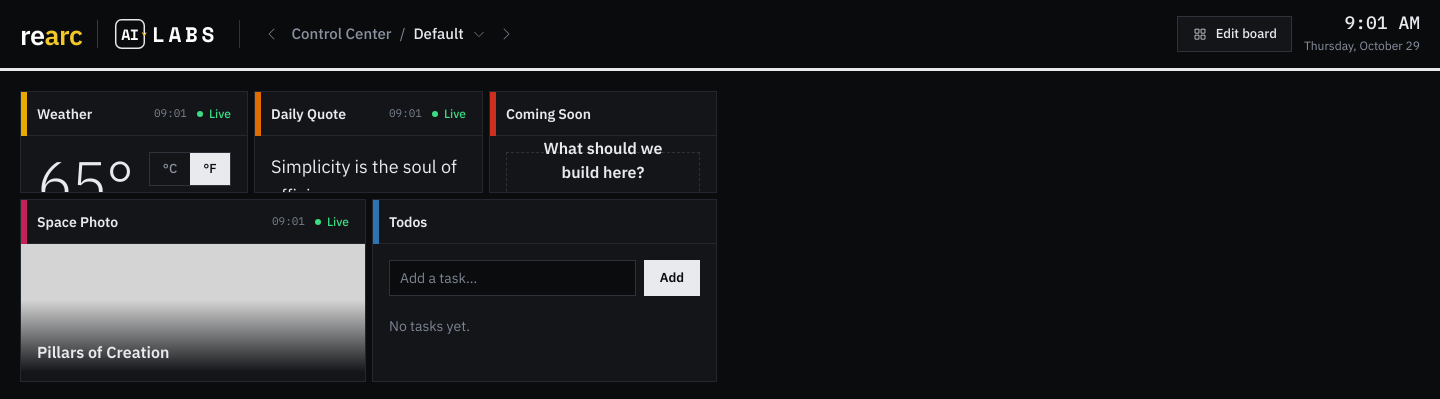
Test case: the whole board › turns to the next profile with its next arrow
The image size is (1440, 399).
Click the button named "Next profile" at (506, 34), box [490, 18, 522, 50]
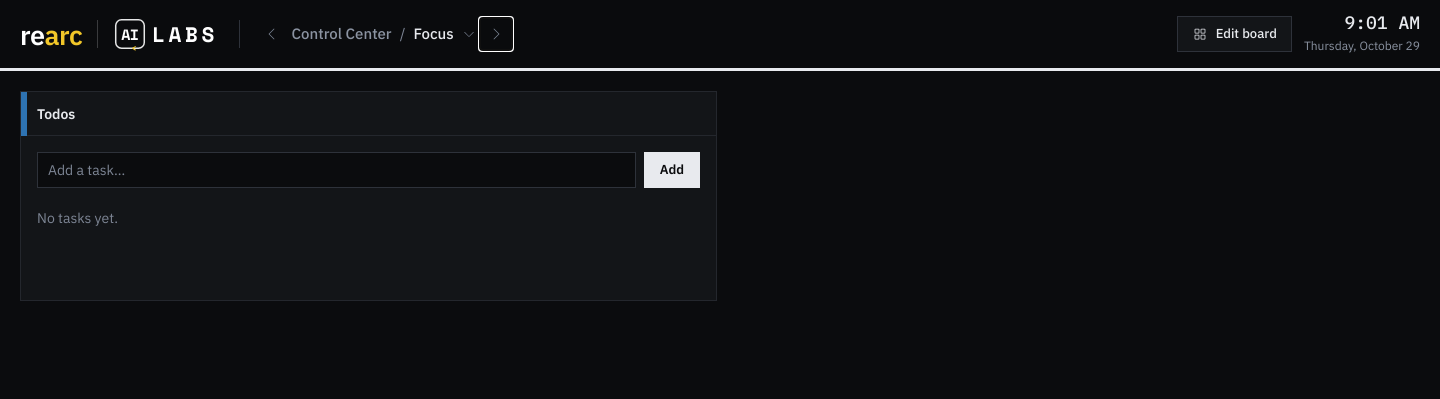
Result: the button with aria-label "Control Center, profile Focus" is shown at [284, 16, 484, 52]
